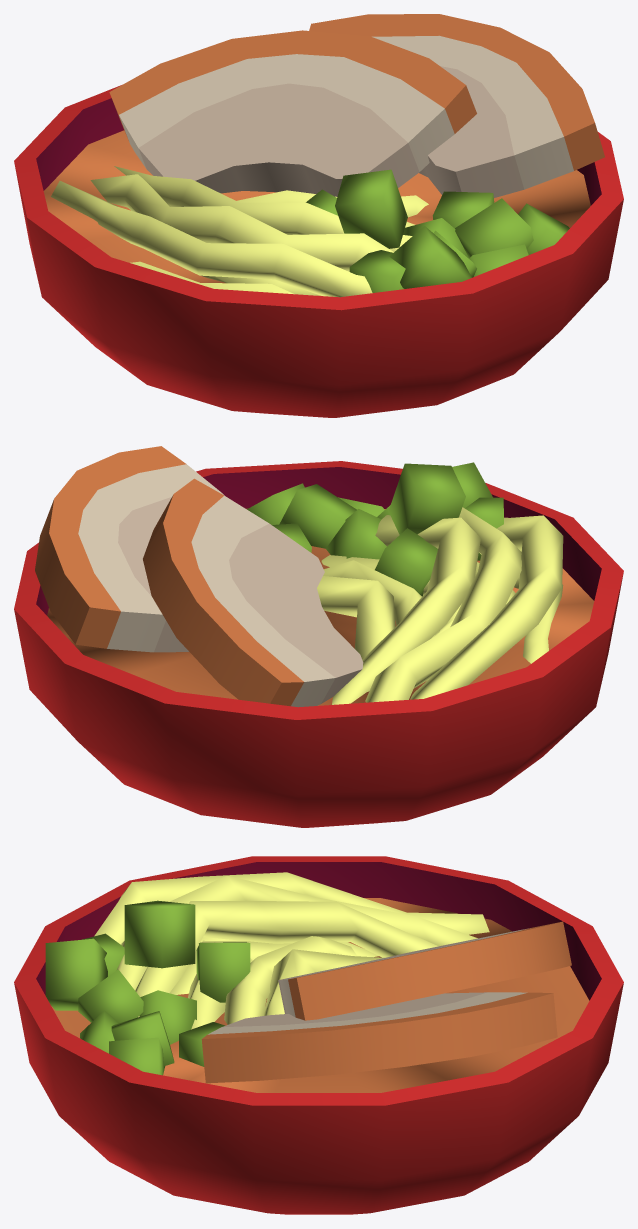
The model's file is Ramen_geo.fbx.
3 views of the same model, one above another, from view 1: azimuth 30°, elevation 25°; view 2: azimuth 150°, elevation 25°; view 3: azimuth 270°, elevation 25° (orthographic).
Parts seen in each view (by area): view 1: Ramen_geo; view 2: Ramen_geo; view 3: Ramen_geo.
Boxes of the visible parts, left/top/right/bottom form: Ramen_geo: left=14, top=14, right=623, bottom=417; Ramen_geo: left=14, top=446, right=623, bottom=827; Ramen_geo: left=14, top=856, right=623, bottom=1214.
Bounding box in the file's own units: 0.6549 × 0.6776 × 0.3221.
